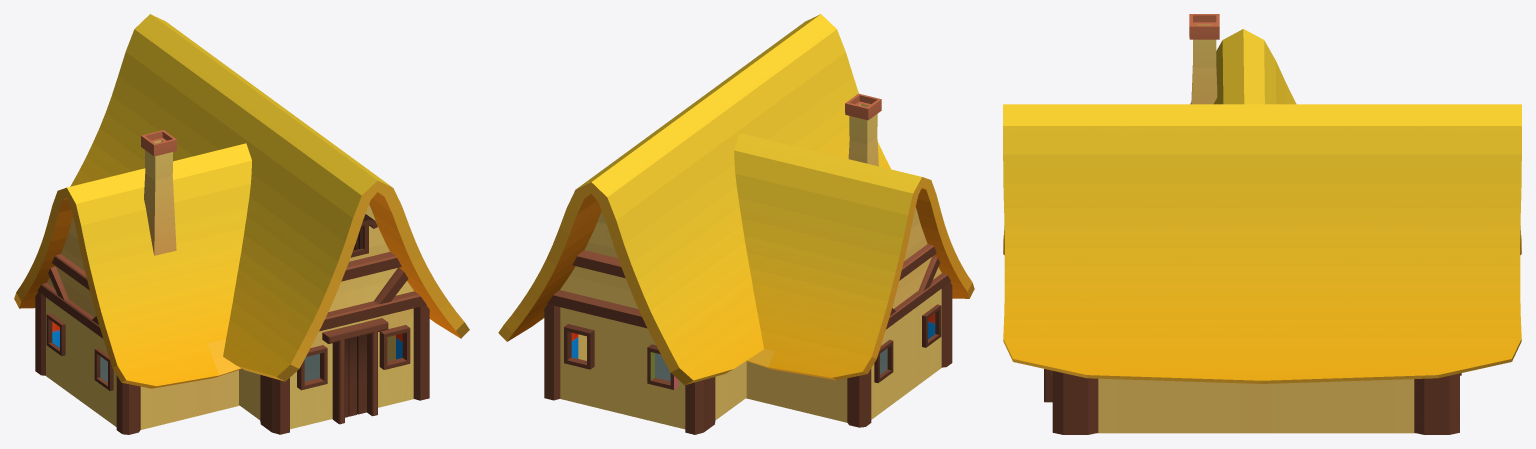
The model's file is house  colo 02.fbx.
3 renders of one model, left to right at view 1: azimuth 30°, elevation 25°; view 2: azimuth 150°, elevation 25°; view 3: azimuth 270°, elevation 25°, orthographic. The views are drawn at different scales.
Parts seen in each view (by area): view 1: M_BIGHOUSE.002; view 2: M_BIGHOUSE.002; view 3: M_BIGHOUSE.002.
Boxes of the visible parts, box(x1,y1,x2,y2) form: M_BIGHOUSE.002: box(14, 14, 469, 434); M_BIGHOUSE.002: box(498, 14, 974, 434); M_BIGHOUSE.002: box(1003, 14, 1521, 434).
Bounding box in the file's own units: 2112 × 1697 × 2660.
